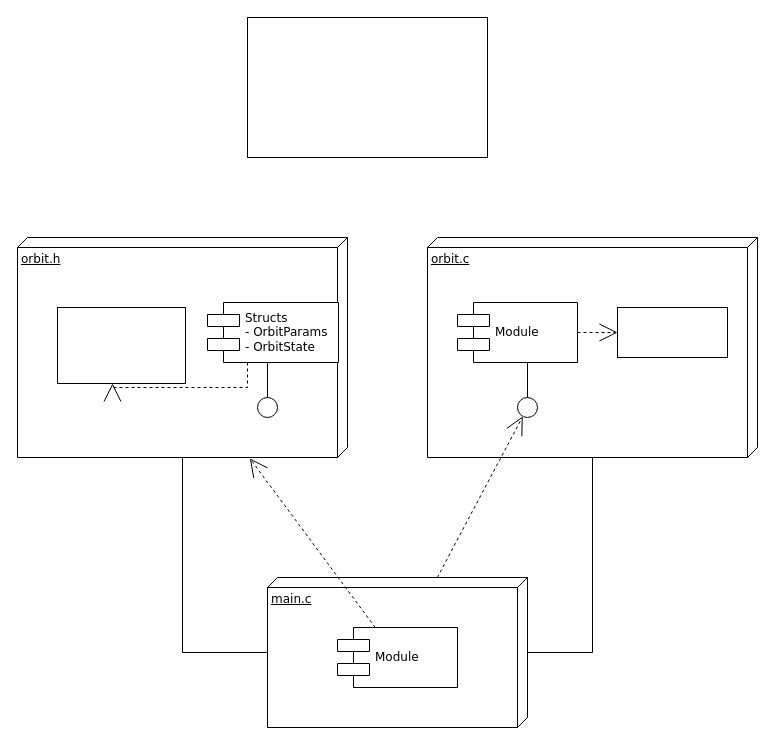
Image size: 775x745. Some labels were removed from this diagram. The shapes that lost their labels are listed below. From the top down, each one's centre as x and y in pixels, then its label:
At (x=367, y=87): "main.c orbit.c orbit.h - Their interactions".
At (x=121, y=345): "Interface Functions - InitOrbit() - UpdateOrbit() - ResetOrbit()".
At (x=672, y=332): "«interface» Name".
